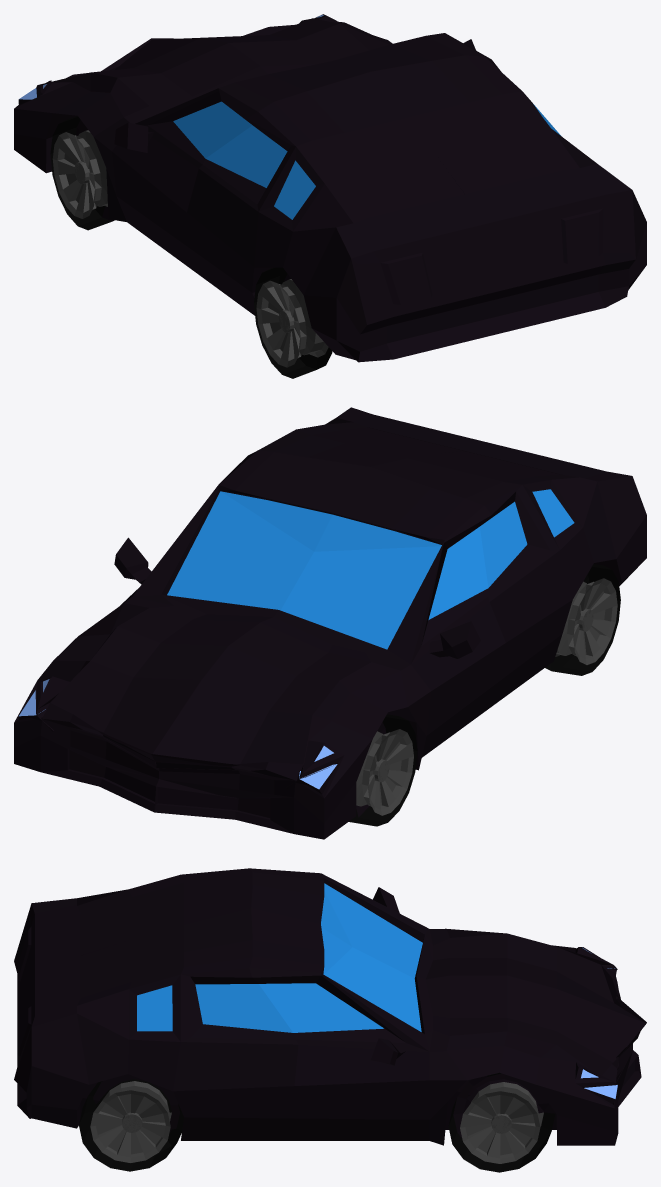
File: SportsCarWithColor.fbx
3 renders of one model, top to bottom at view 1: azimuth 30°, elevation 25°; view 2: azimuth 150°, elevation 25°; view 3: azimuth 270°, elevation 25°, orthographic. The views are drawn at different scales.
Visible parts, largest first — view 1: Cube; view 2: Cube; view 3: Cube.
Boxes of the visible parts, x1,y1,x2,y2 form: Cube: (14, 14, 646, 378); Cube: (14, 407, 646, 839); Cube: (14, 868, 646, 1172).
Size of what is drawn, in the model's own units: 279 by 161 by 472.
